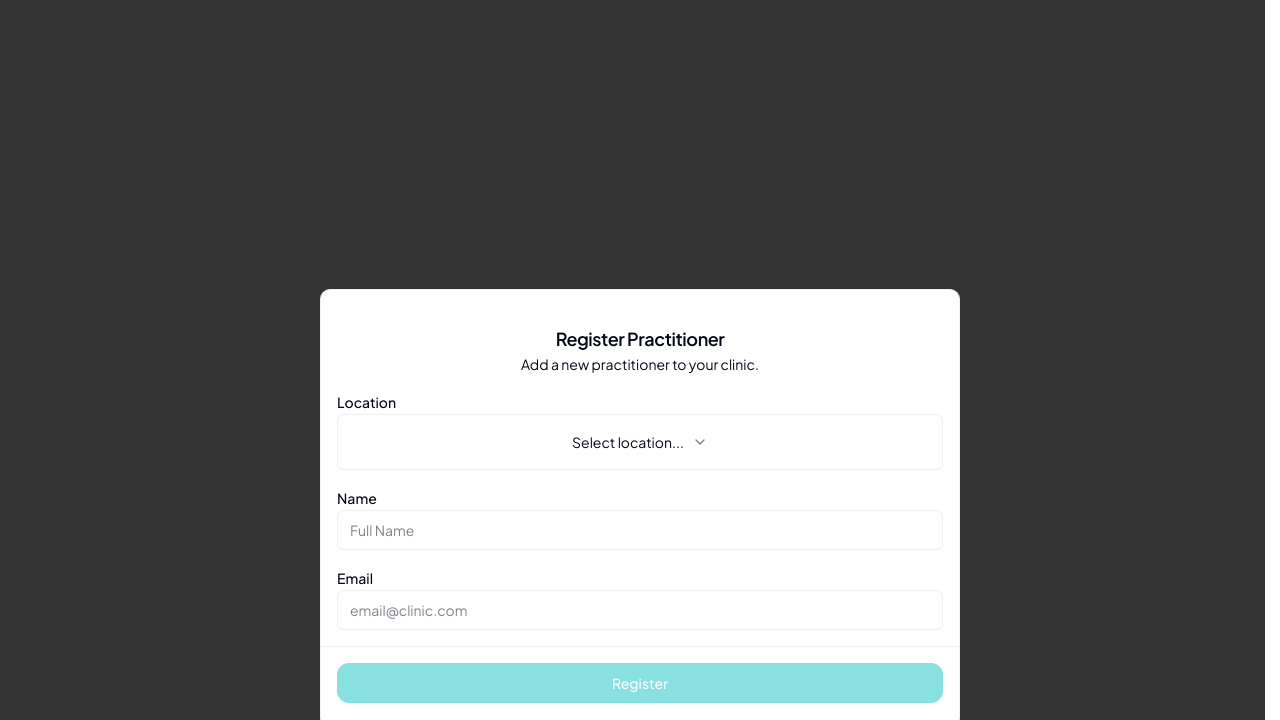
Test: RegisterPractitionerDrawer › enables Register when name, email, and location are filled
In the field labelled "Name": (640, 530) [337,510,943,550], type "Aly Lamuri"
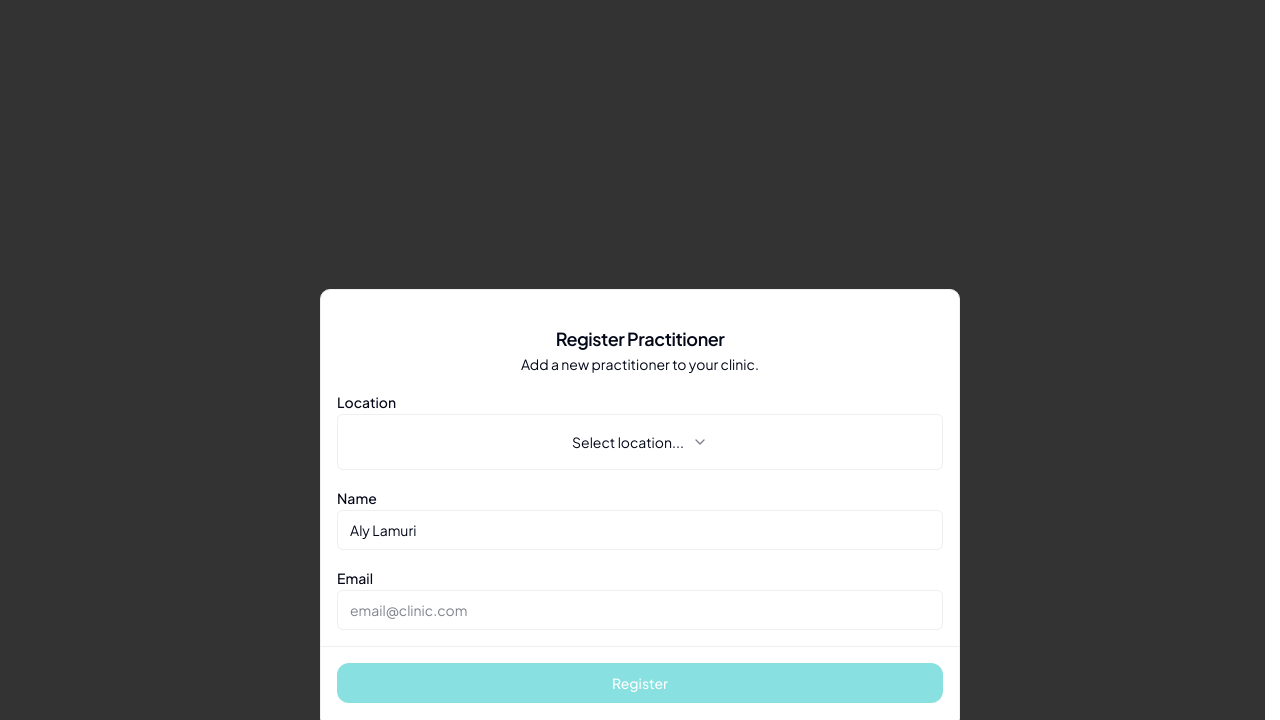
In the field labelled "Email": (640, 610) [337,590,943,630], type "aly@clinic.com"
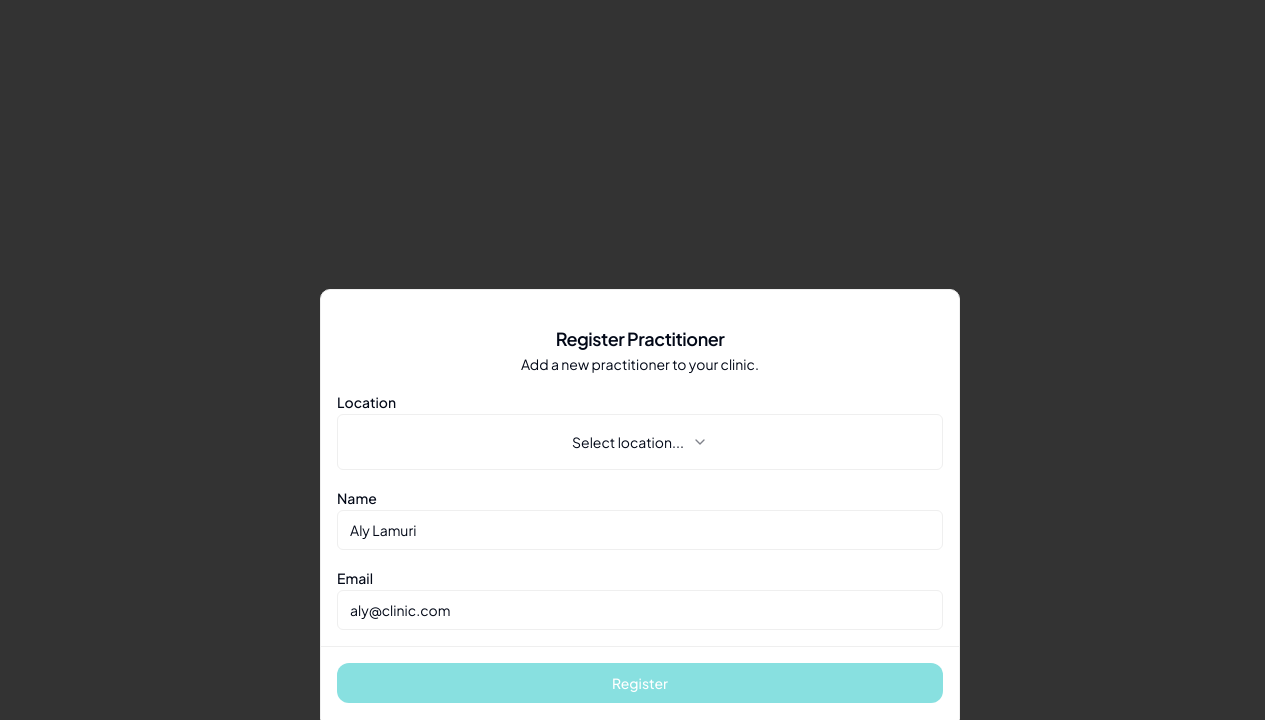
Click the dropdown "Select location...": click(640, 442) [337,414,943,470]
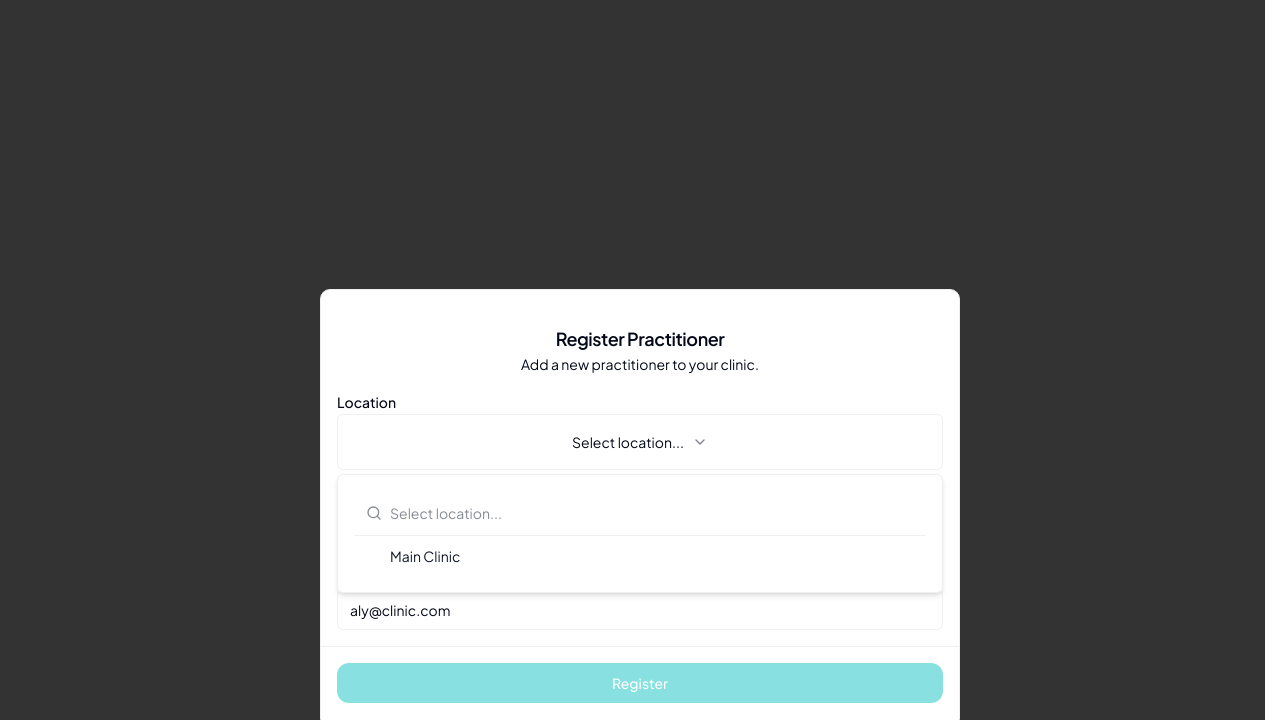
Check: the option "Main Clinic" is shown
Click the option "Main Clinic": click(425, 556) [390,547,460,565]
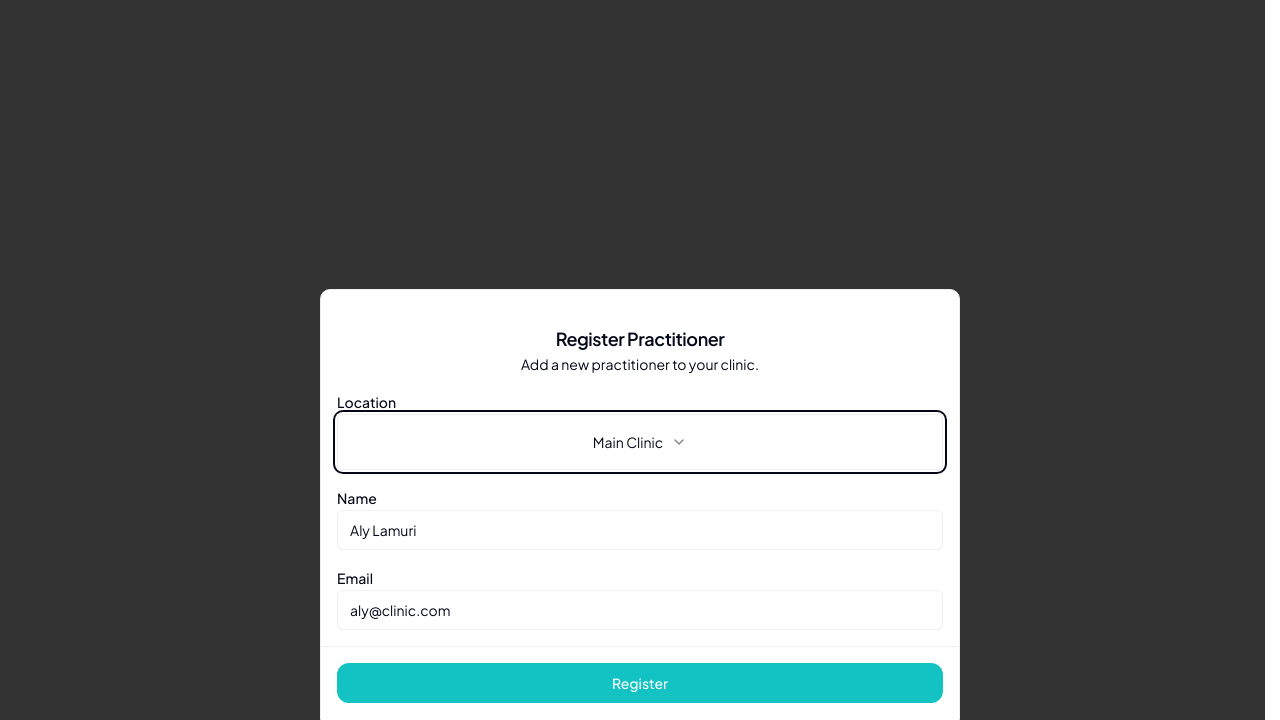
Check: the button "Register" is enabled, box [337,663,943,703]
